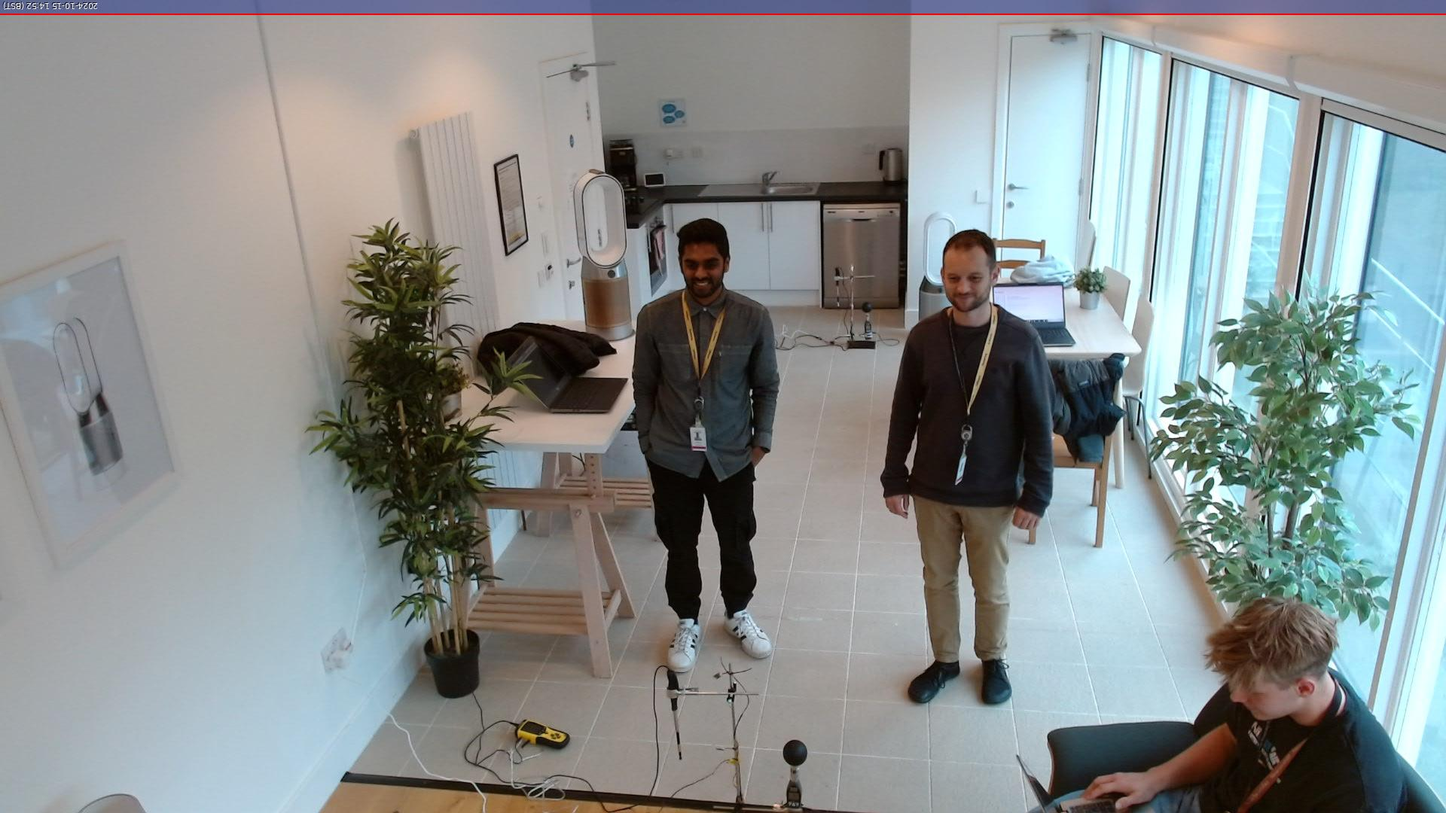long sleeve shirt: (632, 285, 779, 483)
short sleeve shirt: (1210, 667, 1406, 813)
sweater: (878, 302, 1057, 524)
trousers: (645, 453, 760, 621), (910, 492, 1014, 665), (1036, 776, 1205, 813)
